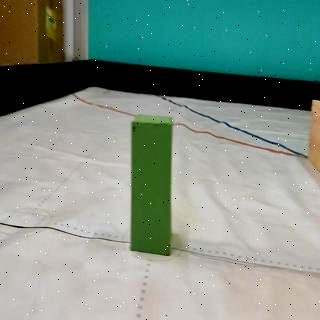greenbox: (132, 116, 172, 256)
